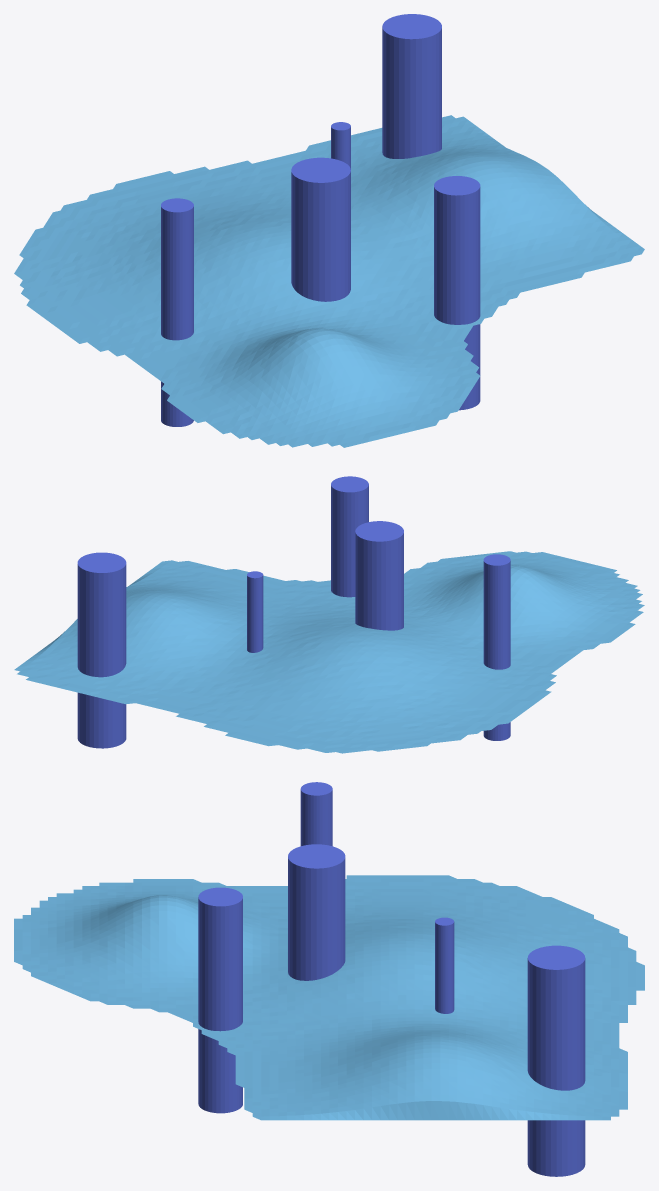
Rendered from mountains_terrain.dae.
The picture shows the model from 3 angles, top to bottom: view 1: azimuth 30°, elevation 25°; view 2: azimuth 150°, elevation 25°; view 3: azimuth 270°, elevation 25°; orthographic projection. The views are drawn at different scales.
Parts seen in each view (by area): view 1: ImageToStl.com_height_map_terrain, Cylinder, Cylinder.003, Cylinder.004, Cylinder.002, Cylinder.001; view 2: ImageToStl.com_height_map_terrain, Cylinder, Cylinder.003, Cylinder.004, Cylinder.002, Cylinder.001; view 3: ImageToStl.com_height_map_terrain, Cylinder, Cylinder.004, Cylinder.003, Cylinder.002, Cylinder.001.
Boxes of the visible parts, x1=… form: ImageToStl.com_height_map_terrain: x1=14, y1=115, x2=644, y2=447; Cylinder: x1=382, y1=14, x2=441, y2=158; Cylinder.003: x1=291, y1=157, x2=350, y2=301; Cylinder.004: x1=434, y1=176, x2=480, y2=410; Cylinder.002: x1=161, y1=198, x2=193, y2=426; Cylinder.001: x1=331, y1=122, x2=350, y2=169; ImageToStl.com_height_map_terrain: x1=14, y1=551, x2=644, y2=753; Cylinder: x1=77, y1=552, x2=126, y2=748; Cylinder.003: x1=355, y1=521, x2=403, y2=630; Cylinder.004: x1=331, y1=476, x2=368, y2=597; Cylinder.002: x1=483, y1=554, x2=510, y2=740; Cylinder.001: x1=247, y1=571, x2=263, y2=652; ImageToStl.com_height_map_terrain: x1=14, y1=875, x2=644, y2=1120; Cylinder: x1=527, y1=945, x2=585, y2=1176; Cylinder.004: x1=198, y1=887, x2=242, y2=1113; Cylinder.003: x1=288, y1=844, x2=345, y2=980; Cylinder.002: x1=300, y1=782, x2=332, y2=846; Cylinder.001: x1=435, y1=917, x2=454, y2=1013.
Size of the model in its own units: 18.13 by 19.73 by 7.14.
